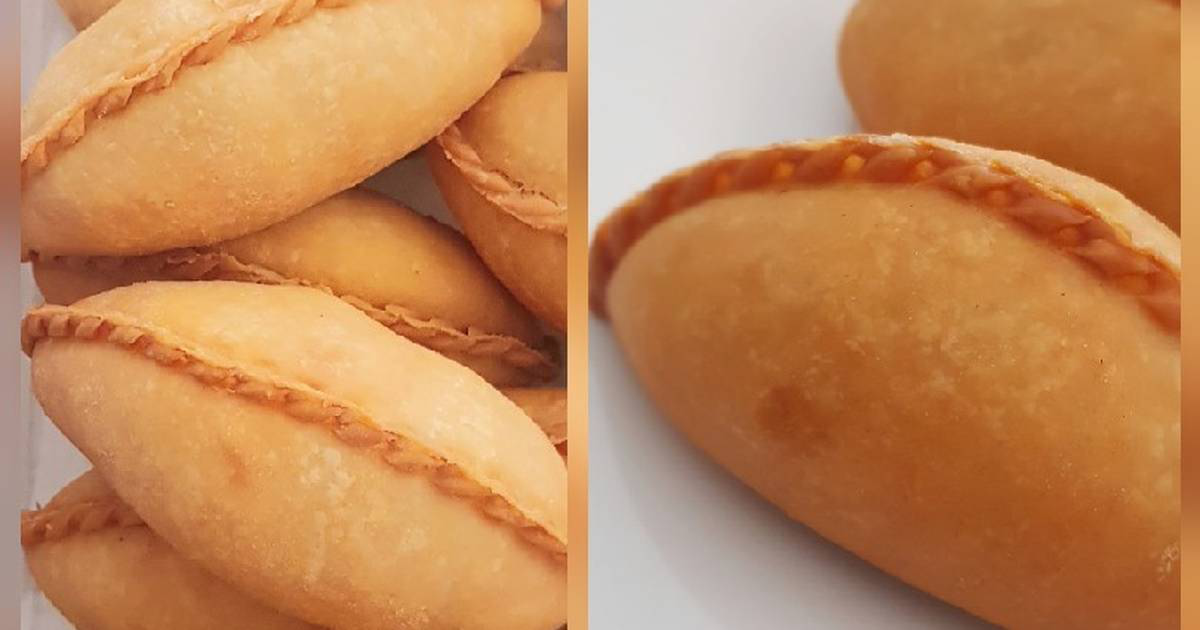Curry Puff: (606, 111, 1199, 622), (15, 273, 566, 620), (9, 0, 548, 248)
